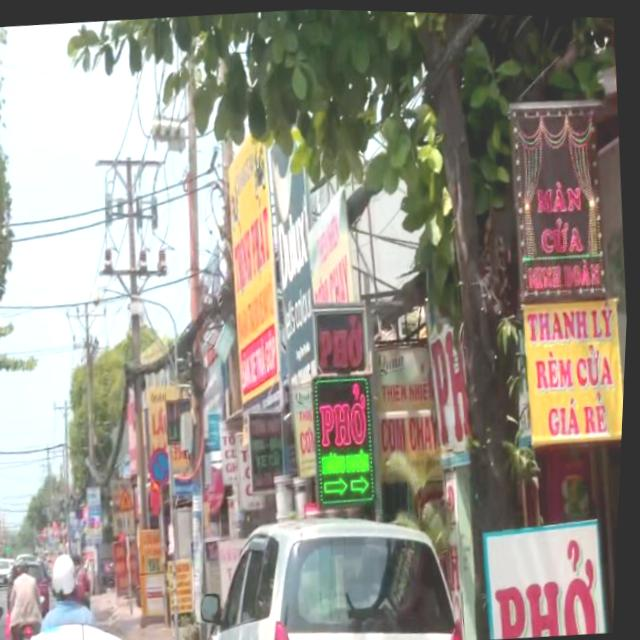Cam do xe: (152, 445, 178, 486)
